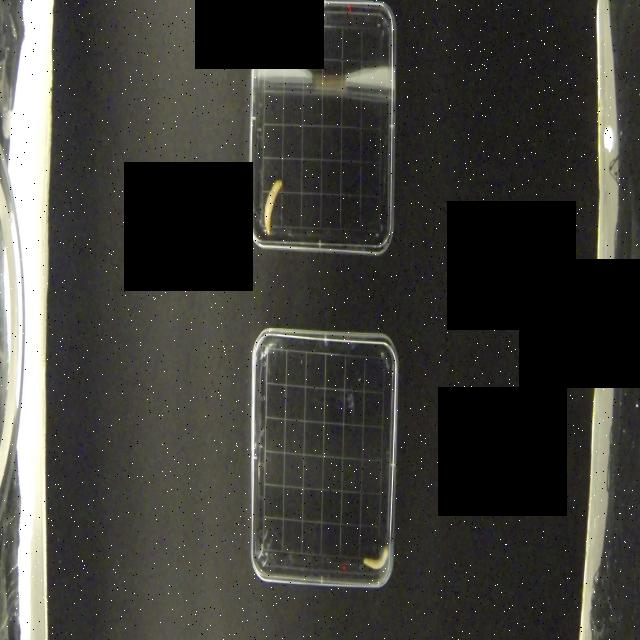larva: (263, 178, 284, 237), (362, 543, 389, 571)
